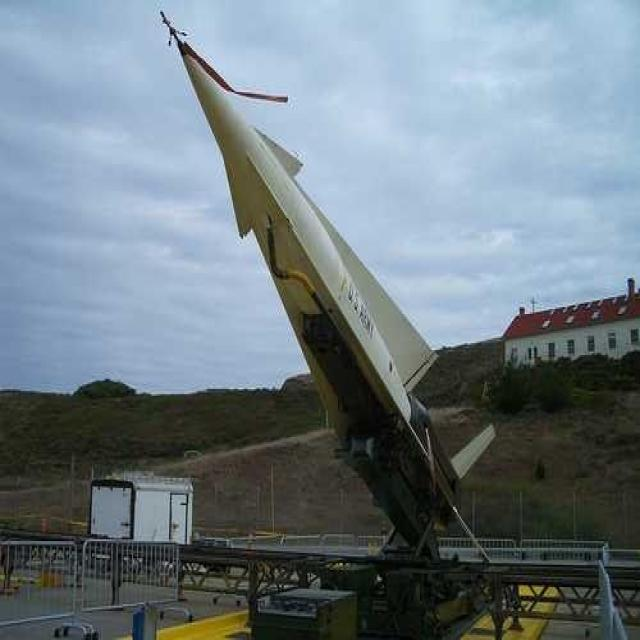missile: (147, 8, 506, 572)
